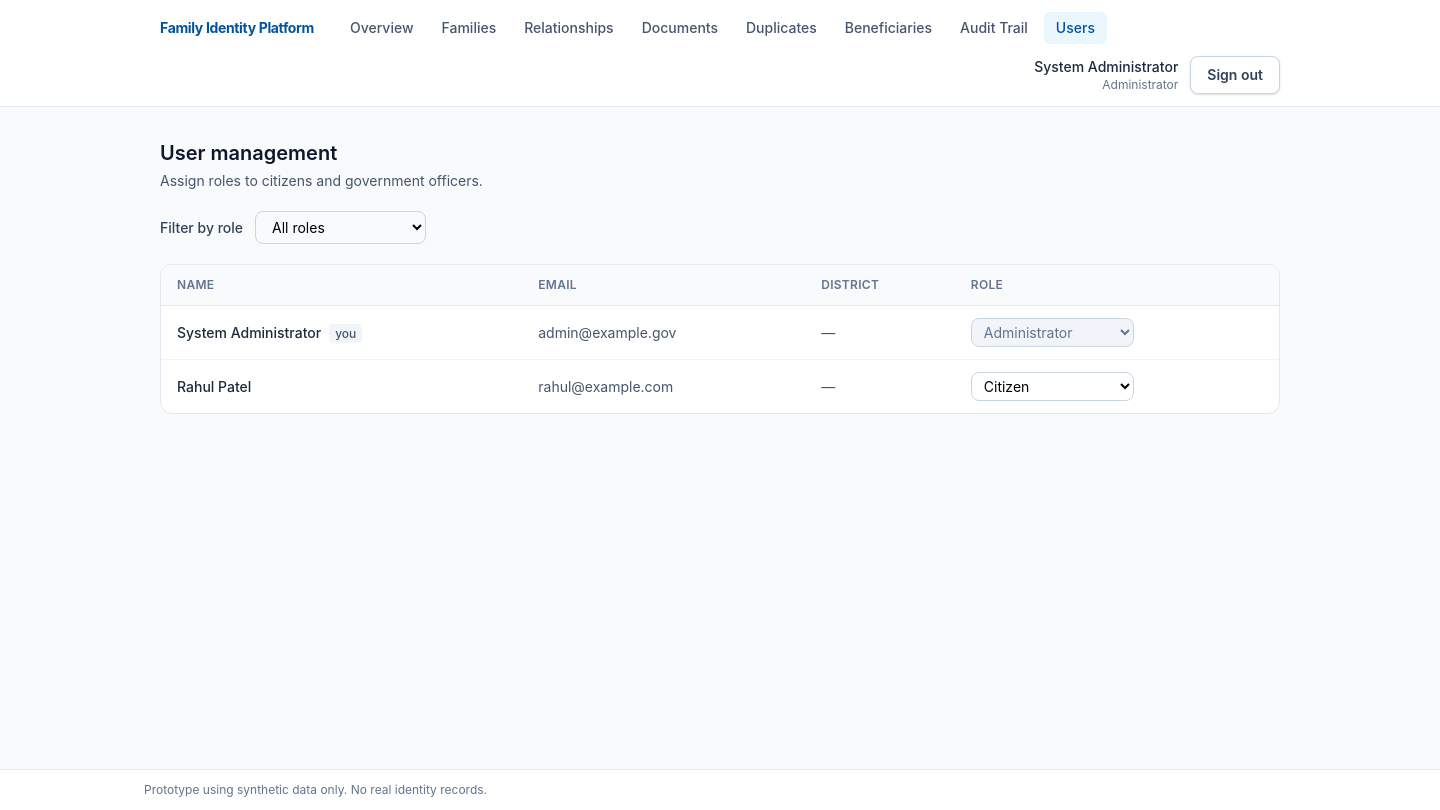
it: AdminUsersPage › promotes a citizen to verification officer
Select "Verification Officer" in the dropdown named "role for rahul patel" at (1052,386), box [971,372,1134,401]
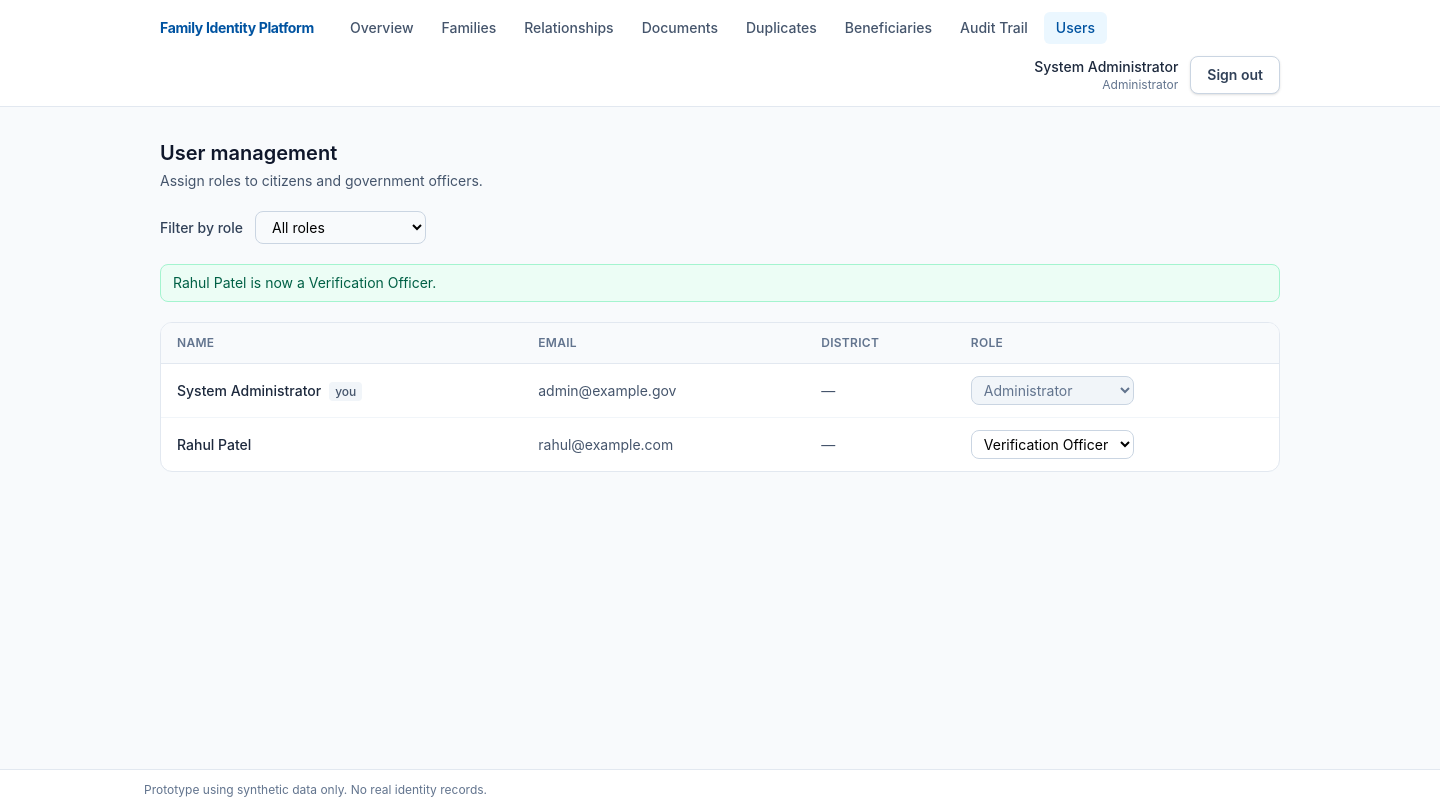
Now the text "Rahul Patel is now a Verification Officer." is shown, box [173,274,436,291]
